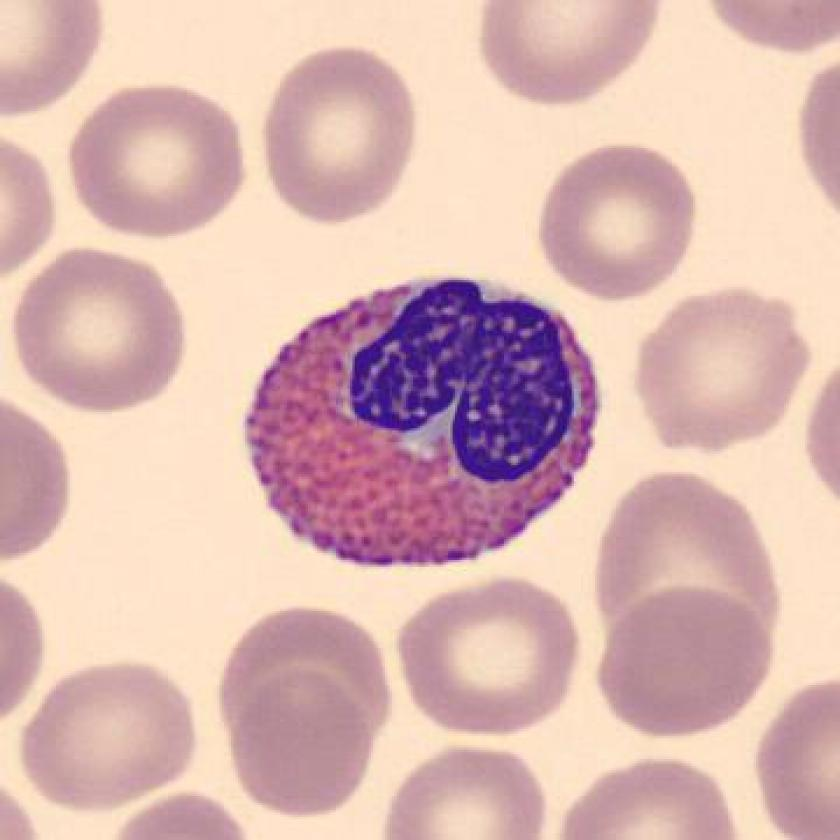eosinophil: (232, 270, 612, 580)
